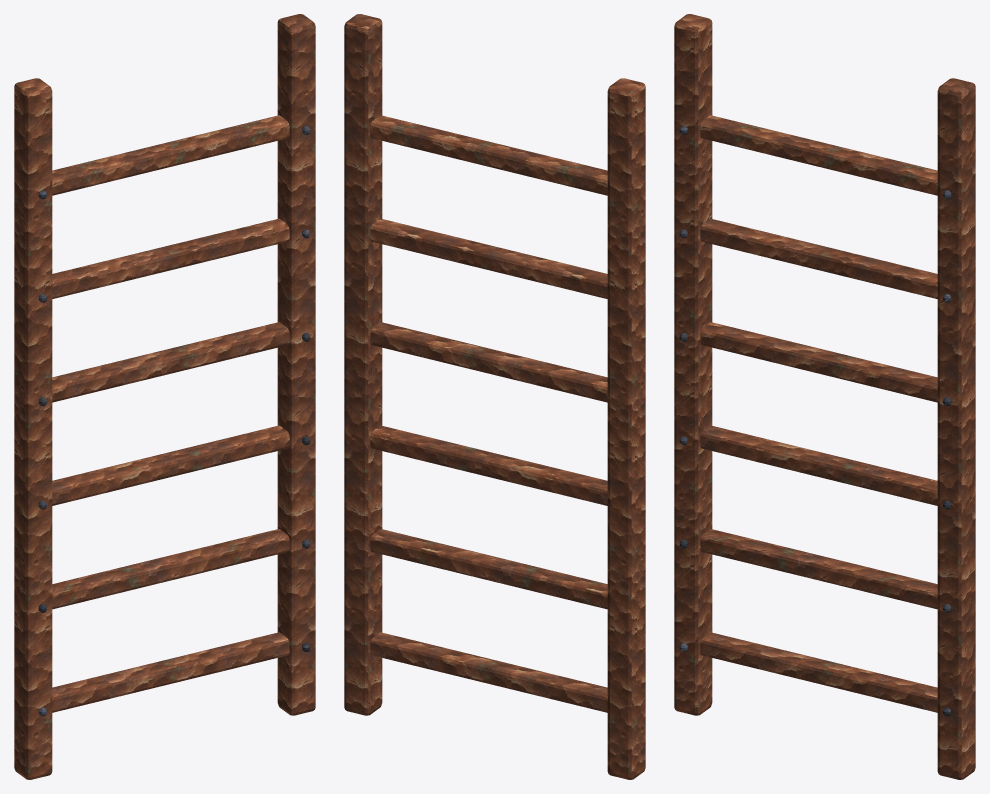
Rendered from ladder__copper_ingot.glb.
The picture shows the model from 3 angles, left to right: view 1: azimuth 30°, elevation 25°; view 2: azimuth 150°, elevation 25°; view 3: azimuth 330°, elevation 25°; orthographic projection.
Parts seen in each view (by area): view 1: model; view 2: model; view 3: model.
Part boxes in pixels (x1=…): model: x1=14, y1=14, x2=315, y2=779; model: x1=344, y1=14, x2=645, y2=779; model: x1=674, y1=14, x2=975, y2=779.
Size of the model in its own units: 0.88 by 2 by 0.1014.
Materials: 4 (4 with a texture image).
